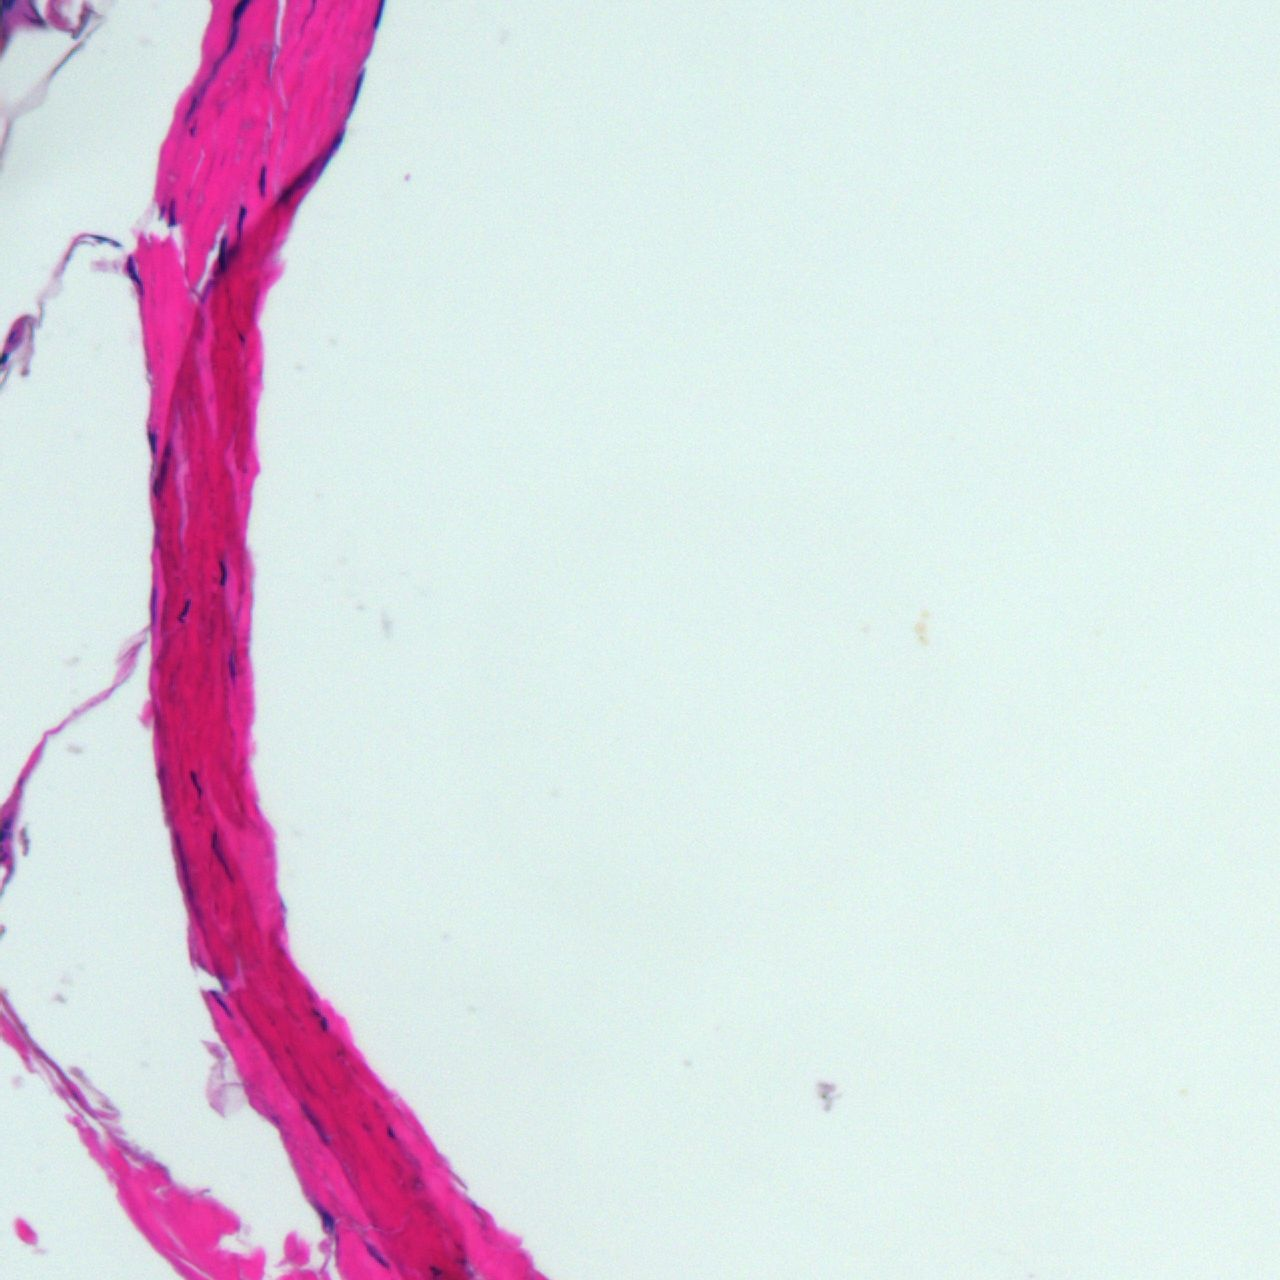nucleus-HE: (165, 836, 210, 922), (200, 826, 237, 884), (147, 438, 175, 502), (275, 162, 316, 204), (299, 1101, 333, 1145), (358, 1234, 393, 1273), (206, 987, 238, 1024), (318, 131, 347, 168), (309, 1201, 340, 1233), (346, 69, 367, 113), (185, 768, 207, 803), (369, 0, 388, 35), (125, 256, 142, 293), (176, 598, 192, 626), (237, 204, 247, 241), (149, 586, 158, 627), (257, 165, 268, 196), (227, 651, 237, 686), (216, 558, 226, 586), (219, 234, 227, 268), (168, 200, 176, 225), (148, 429, 156, 452), (386, 1123, 396, 1138), (430, 1265, 442, 1278), (320, 1014, 327, 1030)
